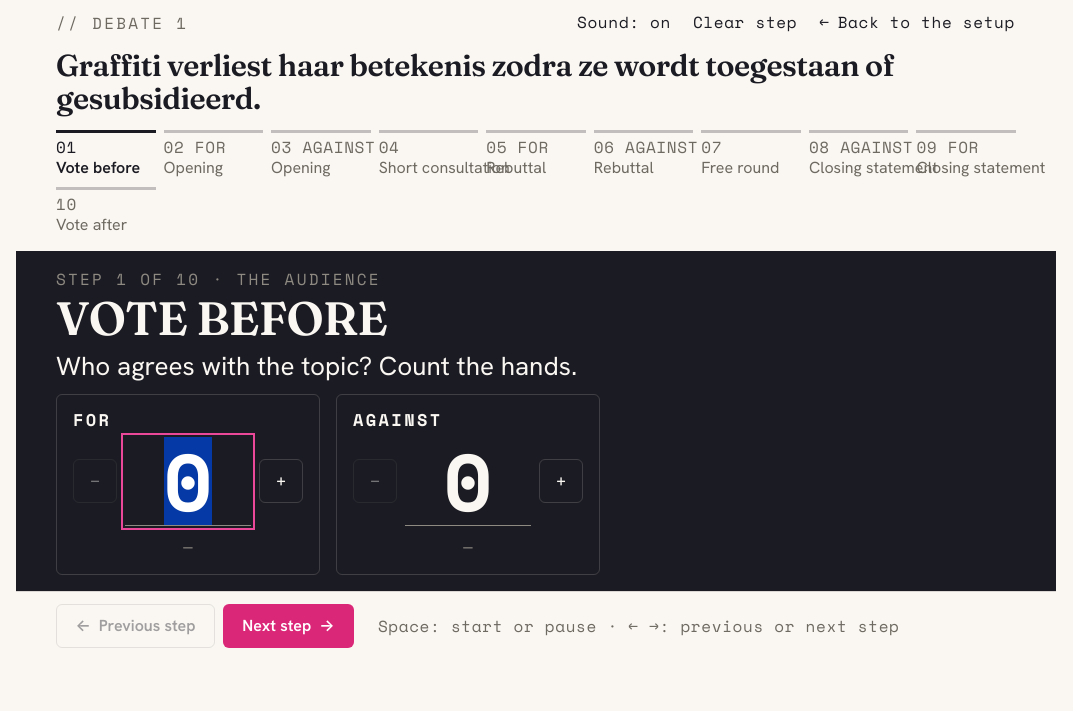
Test case: the debate screen › leaves the keys alone while a count is typed
The image size is (1073, 711).
Replace the text in the number field named "Votes FOR" with "12": point(188, 481) [125, 437, 251, 526]
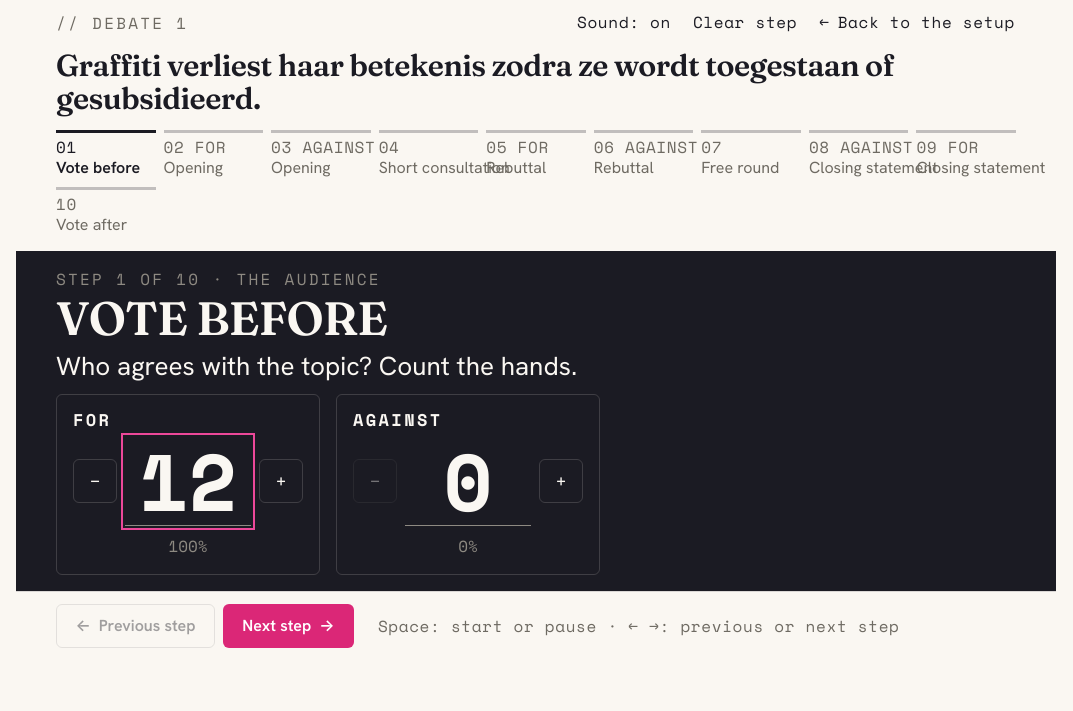
Press ArrowRight in the number field named "Votes FOR", box [125, 437, 251, 526]
Press Space in the number field named "Votes FOR", box [125, 437, 251, 526]
Press PageDown in the number field named "Votes FOR", box [125, 437, 251, 526]
Expected: the heading "Vote before" is shown, [56, 290, 387, 348]
Press ArrowRight
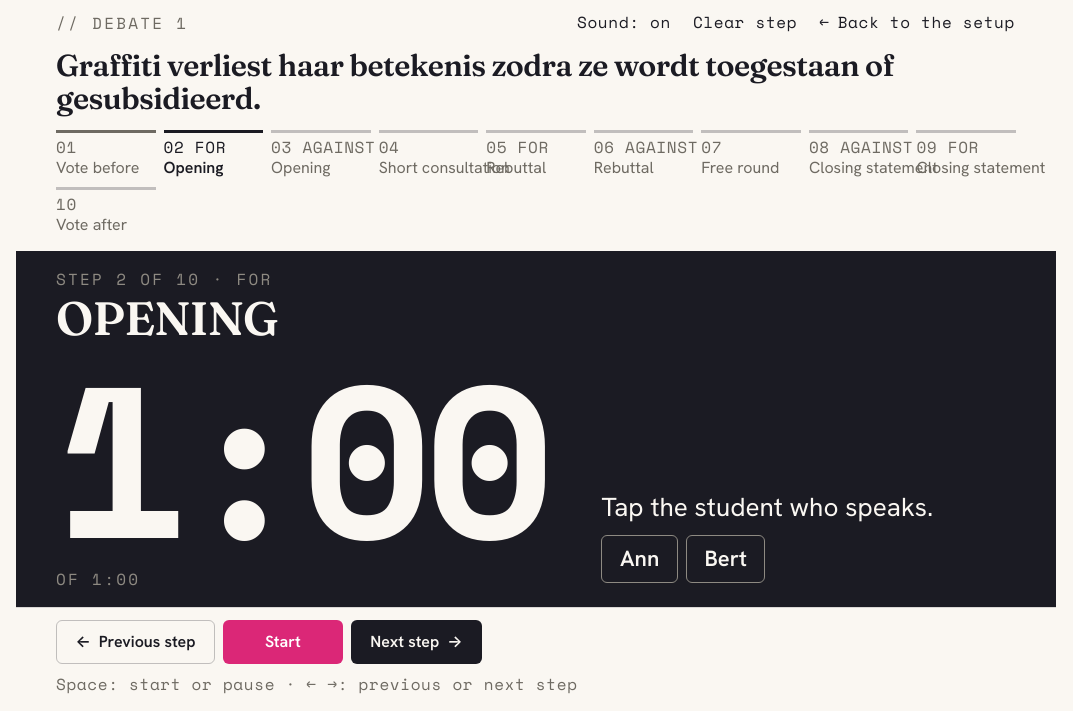
Expected: the heading "Opening" is shown, [56, 290, 278, 348]
